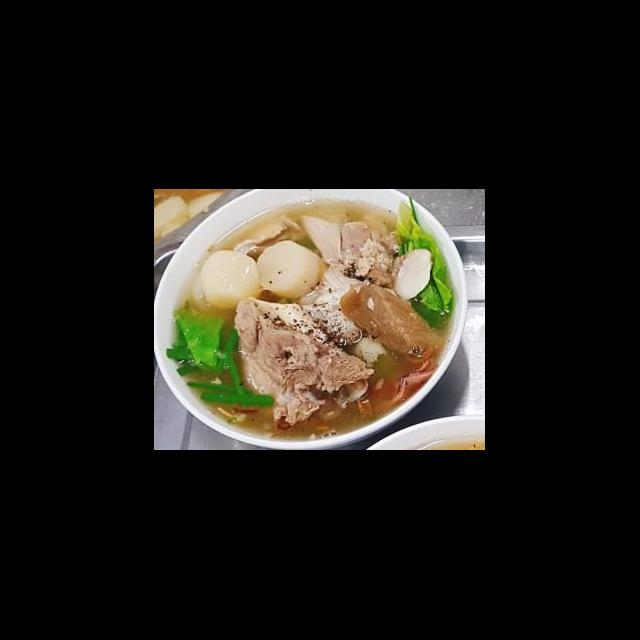thit heo: (230, 294, 378, 432), (288, 262, 402, 348), (296, 212, 390, 276)
